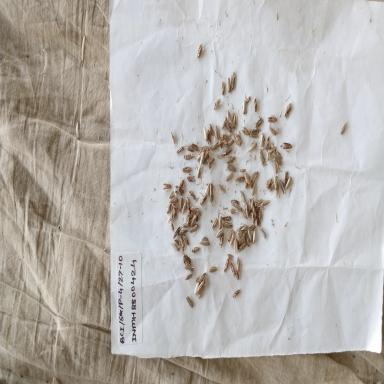pbw: (284, 102, 292, 120), (170, 202, 178, 219), (198, 236, 211, 246), (213, 97, 223, 110), (249, 129, 262, 139), (244, 170, 252, 186), (173, 224, 181, 240), (186, 294, 194, 310), (250, 169, 259, 183), (174, 184, 184, 196), (182, 253, 192, 265), (248, 142, 258, 154), (285, 176, 293, 190), (279, 178, 286, 194), (170, 241, 180, 252), (184, 261, 194, 272), (254, 117, 264, 128), (230, 197, 240, 208), (208, 263, 219, 273), (259, 148, 265, 166), (202, 125, 208, 143), (232, 287, 241, 299), (218, 232, 225, 247), (267, 179, 275, 192), (178, 197, 184, 214), (213, 125, 219, 142), (226, 108, 232, 125), (247, 226, 253, 243), (185, 144, 195, 154), (226, 76, 231, 96), (178, 227, 188, 237), (189, 223, 199, 233), (268, 145, 278, 155), (225, 155, 236, 164), (223, 221, 234, 230), (282, 141, 293, 150), (226, 138, 235, 149), (190, 214, 197, 228), (239, 189, 246, 203), (197, 280, 205, 292), (230, 262, 236, 278), (265, 177, 273, 189), (166, 199, 172, 215), (188, 190, 196, 202), (194, 280, 200, 296), (169, 129, 175, 145), (218, 183, 226, 195), (220, 80, 226, 96), (223, 257, 229, 273), (196, 151, 204, 163), (208, 158, 216, 170), (231, 72, 236, 91), (232, 111, 237, 130), (209, 183, 214, 202), (269, 124, 276, 137), (218, 213, 223, 231), (244, 201, 249, 219), (212, 216, 218, 231), (251, 181, 257, 196), (254, 198, 263, 208), (210, 141, 219, 151), (162, 182, 172, 191), (228, 232, 234, 247), (235, 133, 241, 148), (184, 271, 193, 281), (238, 242, 246, 253), (274, 156, 282, 167), (216, 227, 224, 238), (267, 116, 278, 124), (183, 153, 194, 161), (226, 164, 237, 172), (221, 214, 232, 222), (273, 174, 278, 191), (275, 182, 280, 199), (169, 220, 175, 234), (196, 164, 202, 178), (275, 148, 282, 160), (221, 116, 227, 130), (242, 125, 249, 137), (234, 203, 243, 212), (220, 140, 229, 149), (176, 145, 184, 155), (225, 146, 233, 156), (251, 229, 256, 245), (216, 152, 226, 160), (182, 166, 192, 174), (168, 190, 176, 200), (224, 173, 234, 181), (228, 208, 238, 216), (253, 97, 258, 113), (250, 195, 255, 211), (260, 132, 265, 148), (237, 134, 243, 147), (204, 182, 210, 195), (180, 237, 186, 250), (260, 226, 266, 239), (264, 136, 270, 149), (200, 195, 207, 206), (199, 271, 206, 282), (207, 130, 212, 145), (273, 160, 278, 175), (200, 144, 209, 152), (234, 176, 246, 182), (239, 224, 248, 232), (226, 122, 232, 134), (247, 223, 256, 231), (262, 199, 271, 207), (183, 234, 189, 246), (188, 209, 194, 221), (186, 175, 195, 183), (166, 212, 172, 224), (234, 236, 238, 254), (254, 212, 259, 226), (209, 123, 214, 137), (227, 229, 232, 243), (182, 199, 187, 213), (190, 205, 200, 212), (236, 256, 241, 270), (284, 169, 288, 186), (242, 98, 246, 115), (195, 209, 200, 222), (267, 146, 271, 162), (258, 209, 262, 225), (171, 196, 179, 204), (192, 142, 199, 151), (221, 133, 230, 140), (237, 228, 242, 240), (185, 209, 190, 221), (248, 198, 252, 213), (204, 148, 210, 158), (246, 233, 250, 248), (250, 212, 255, 224), (186, 196, 190, 210), (242, 230, 246, 244), (227, 252, 234, 260), (238, 167, 246, 174), (236, 237, 243, 245), (246, 95, 251, 106), (191, 246, 200, 252), (242, 210, 248, 219), (236, 269, 240, 282), (253, 206, 260, 213), (182, 222, 190, 228), (195, 277, 203, 283), (174, 239, 180, 245), (245, 180, 248, 190)
